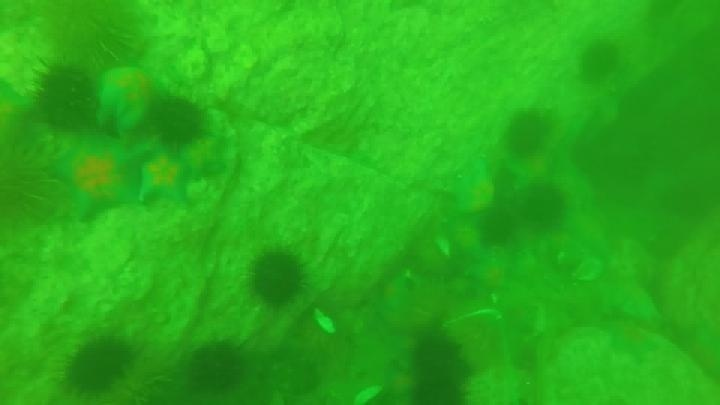echinus: (41, 1, 147, 71), (1, 140, 58, 230), (31, 60, 101, 133), (60, 333, 136, 398), (246, 247, 308, 309), (404, 330, 467, 389), (185, 339, 249, 395), (146, 93, 209, 149), (502, 108, 554, 159), (519, 182, 569, 233), (659, 180, 714, 222), (577, 38, 623, 84), (476, 205, 519, 248), (410, 374, 467, 404)
starfish: (54, 139, 157, 225), (93, 60, 171, 131), (135, 151, 198, 207), (175, 132, 231, 183), (454, 157, 506, 211), (602, 317, 660, 364), (1, 78, 37, 148), (466, 255, 514, 296), (375, 363, 421, 404)
